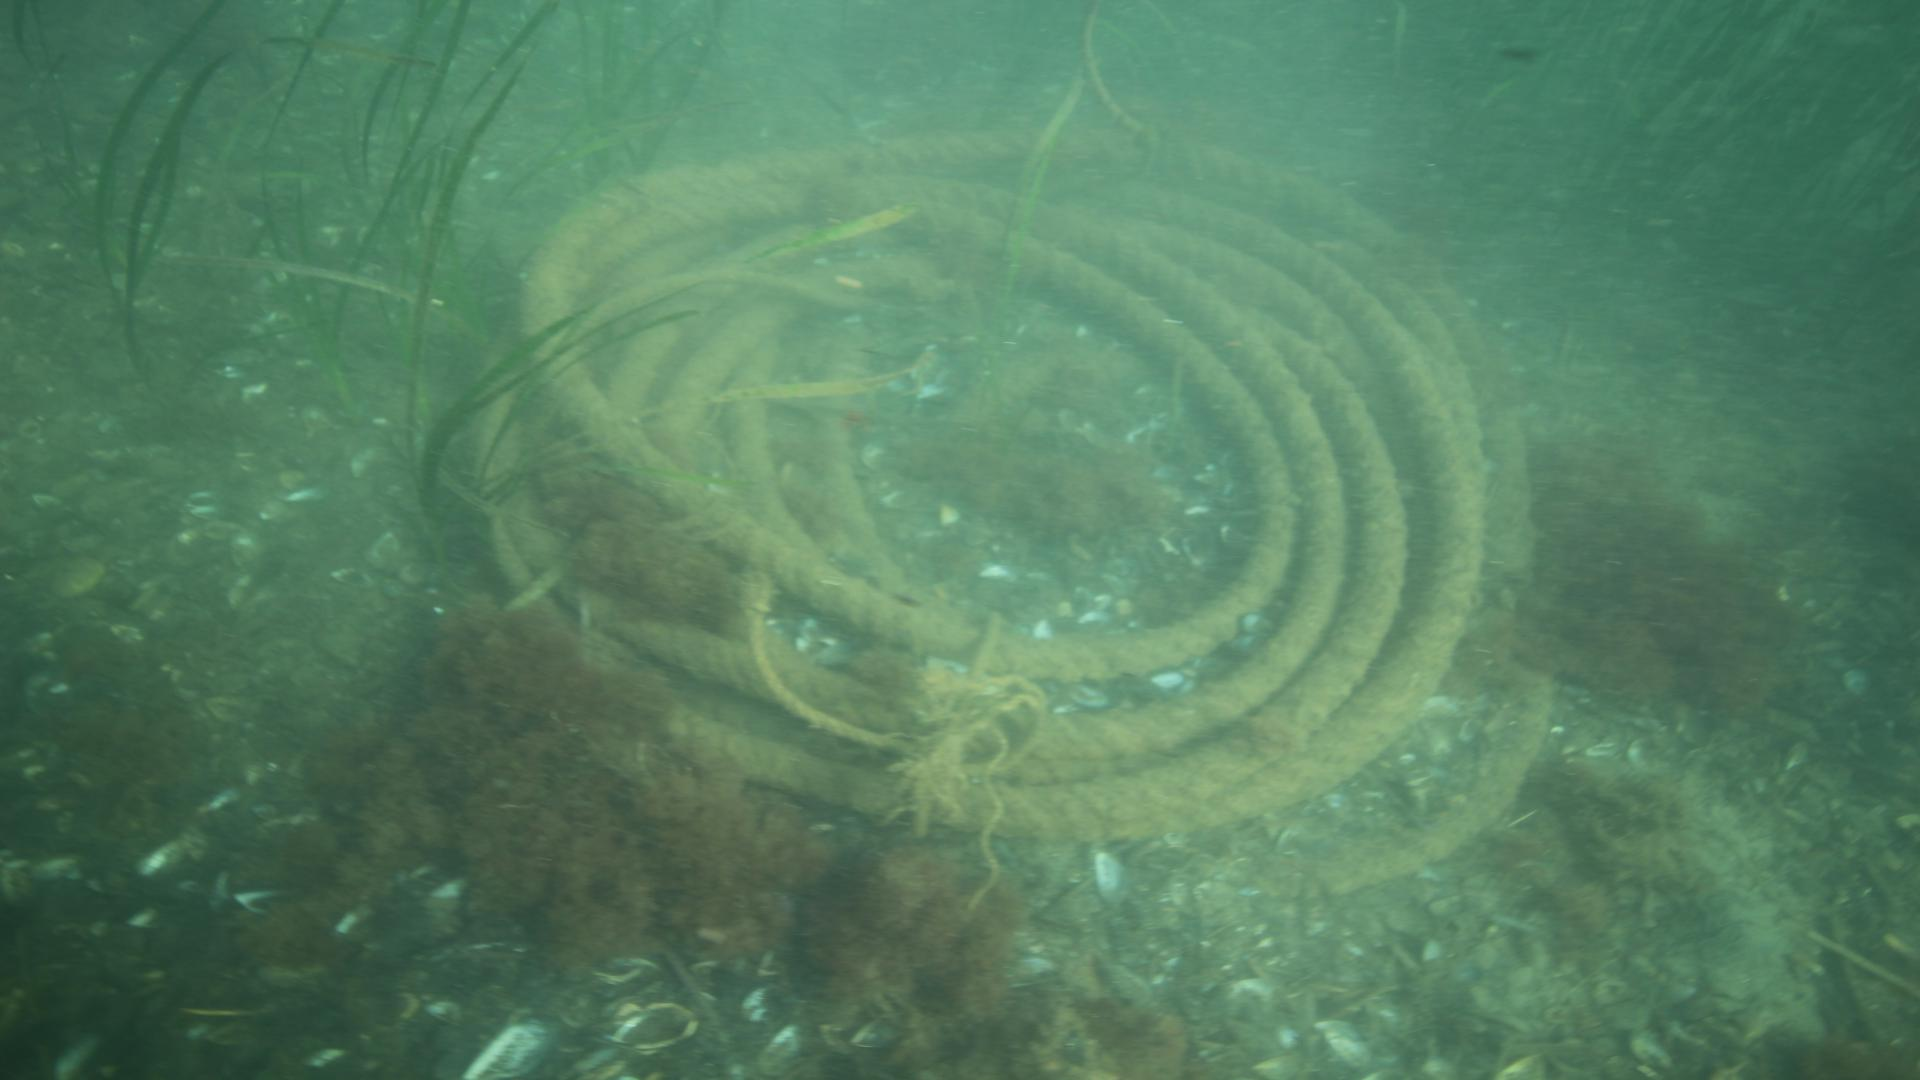bundle of ropes: (473, 128, 1549, 894)
